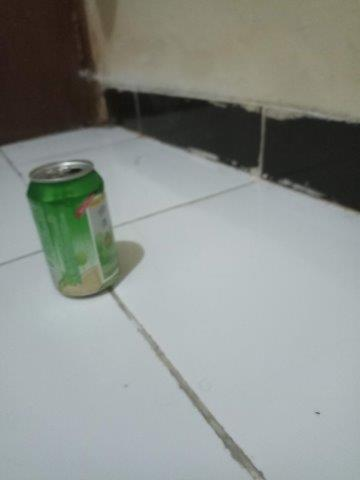kaleng: (26, 160, 119, 300)
